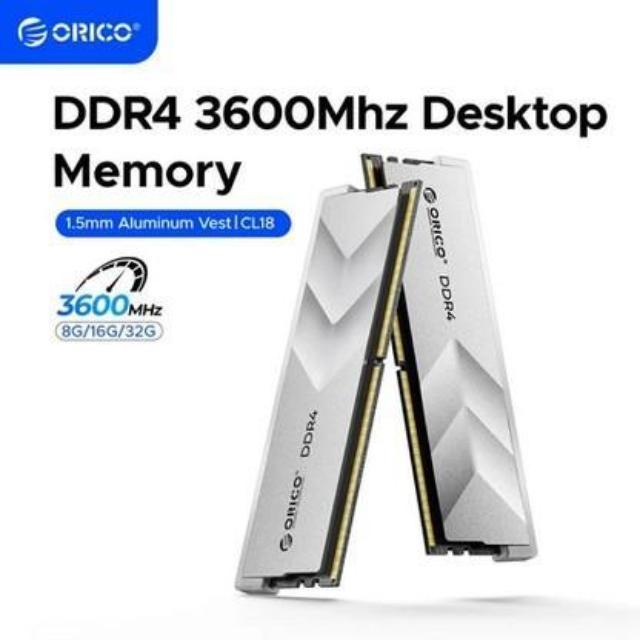RAM: (244, 179, 433, 604), (360, 144, 546, 573)
